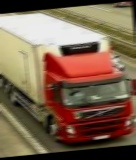truck: (0, 4, 136, 151)
